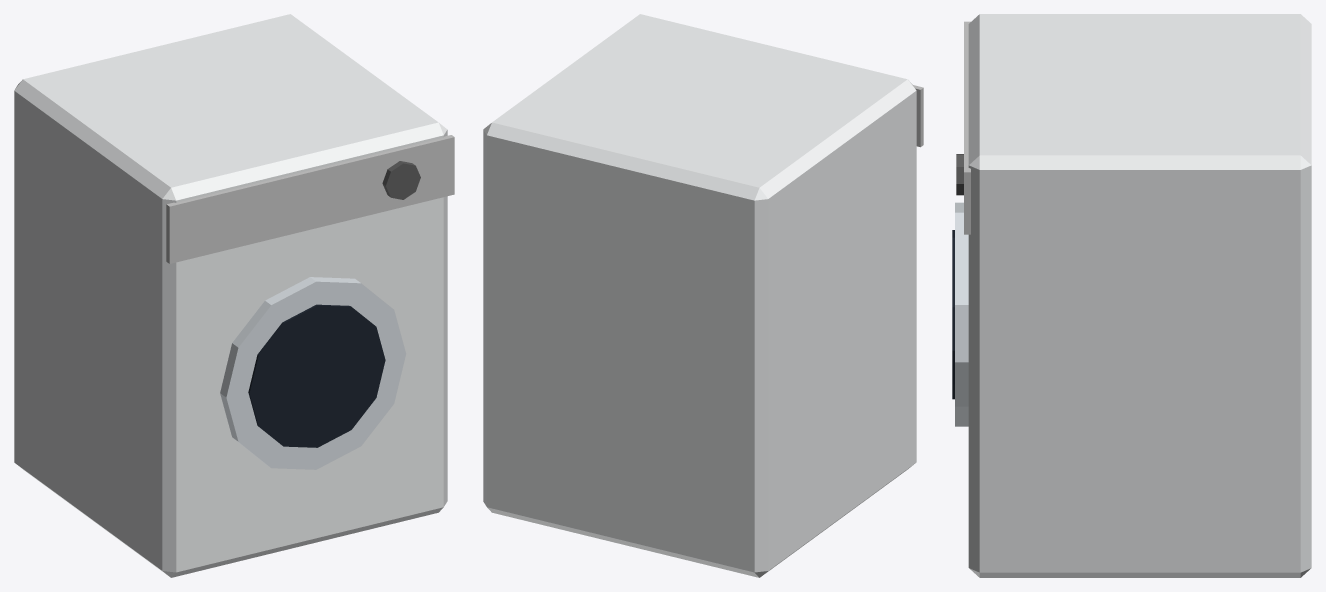
File: FUR_WashingMachine.fbx
3 renders of one model, left to right at view 1: azimuth 30°, elevation 25°; view 2: azimuth 150°, elevation 25°; view 3: azimuth 270°, elevation 25°, orthographic. The views are drawn at different scales.
Visible parts, largest first — view 1: FUR_WashingMachine; view 2: FUR_WashingMachine; view 3: FUR_WashingMachine.
Boxes of the visible parts, x1=… form: FUR_WashingMachine: x1=14, y1=14, x2=454, y2=577; FUR_WashingMachine: x1=483, y1=14, x2=923, y2=577; FUR_WashingMachine: x1=952, y1=14, x2=1311, y2=577.
Bounding box in the file's own units: 2.6 × 3.4 × 2.62.
